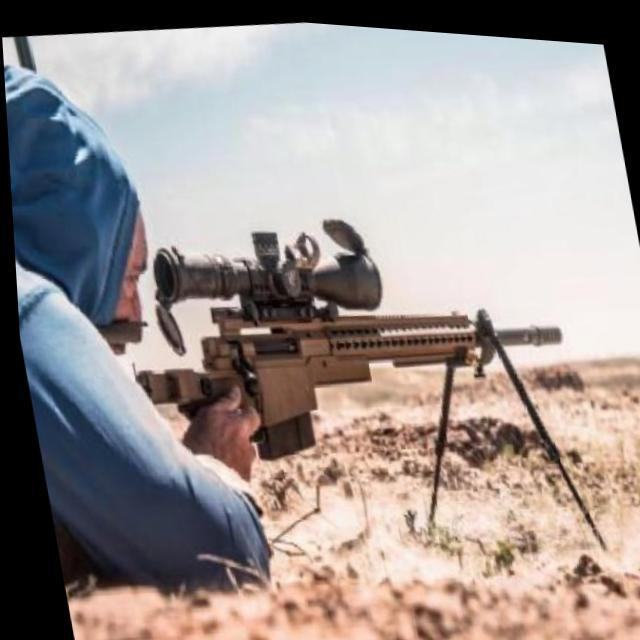weapon: (98, 171, 604, 596)
